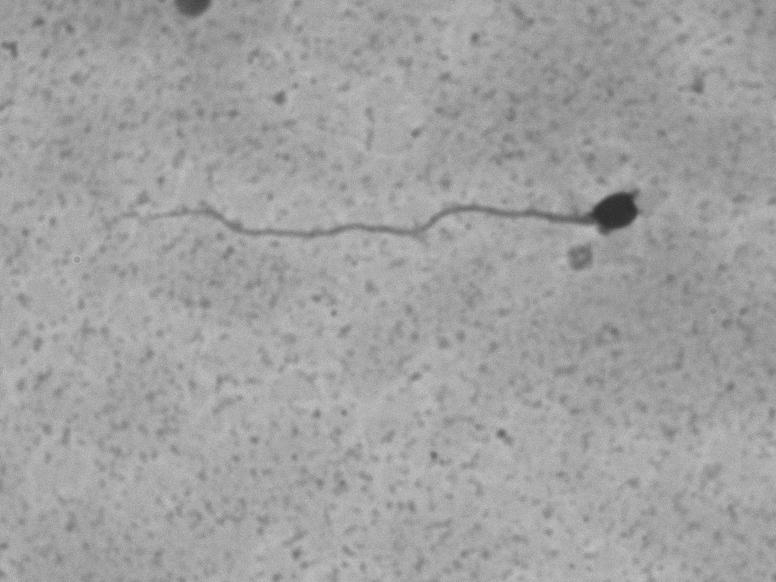Abnormal: (140, 124, 680, 310)
